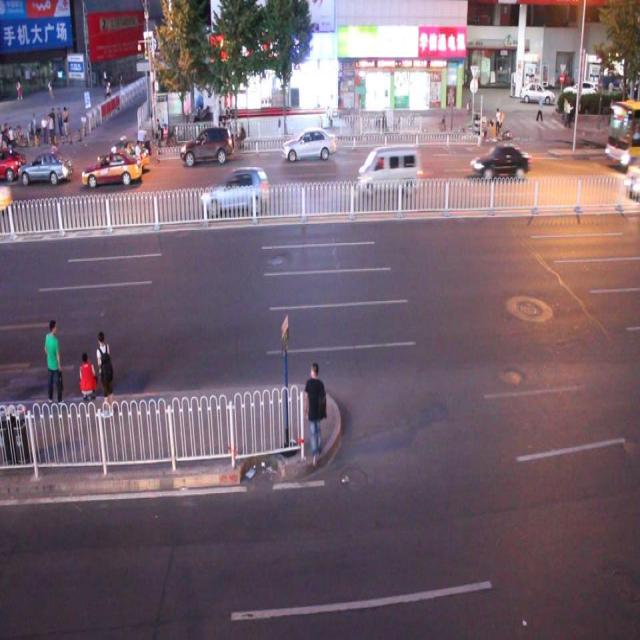car: (203, 168, 266, 212), (470, 142, 530, 178), (181, 126, 233, 164), (81, 153, 140, 186), (282, 128, 335, 162), (19, 153, 73, 185), (105, 140, 149, 171), (1, 148, 24, 180), (1, 178, 12, 213)
truck: (356, 144, 421, 195), (625, 158, 640, 204)
van: (604, 99, 640, 168)
